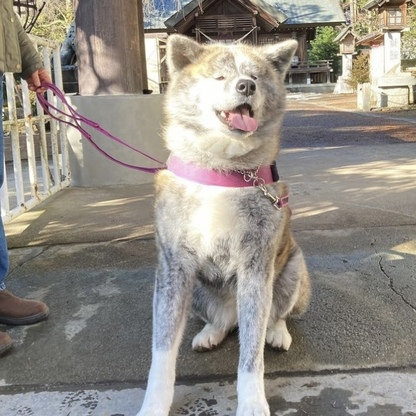akita: (134, 29, 314, 416)
